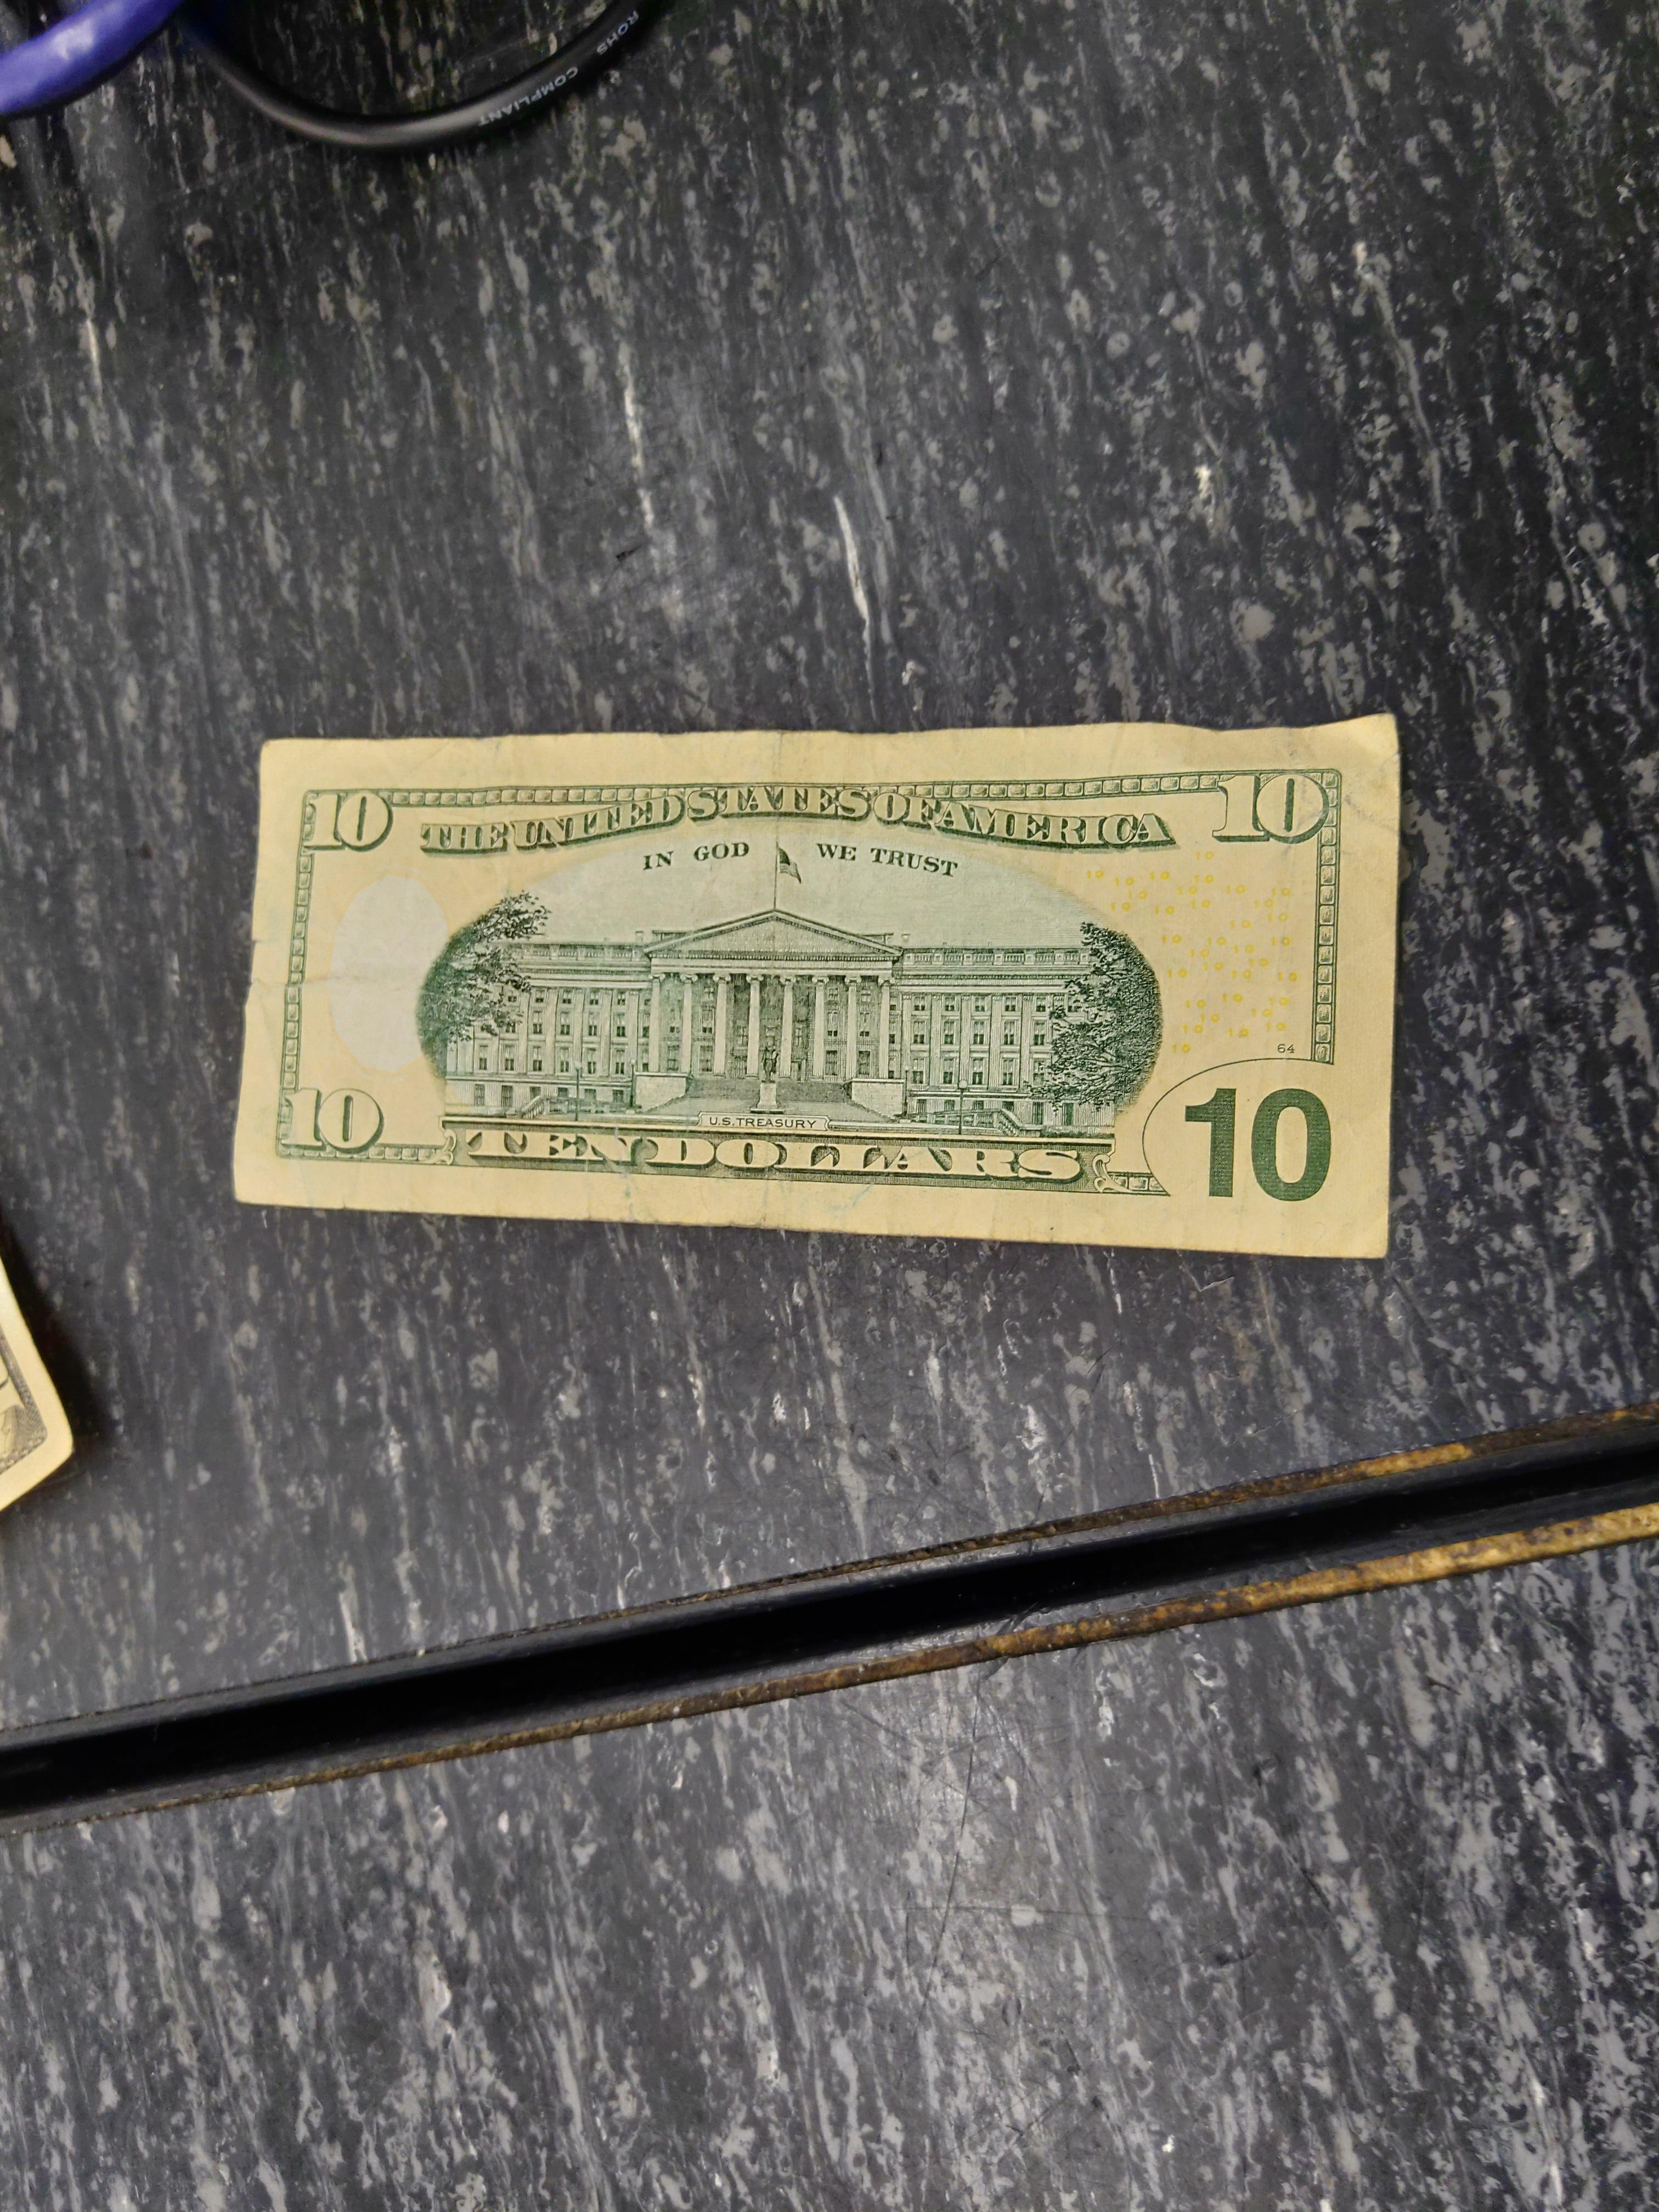TenBill: (223, 672, 1399, 1259)
